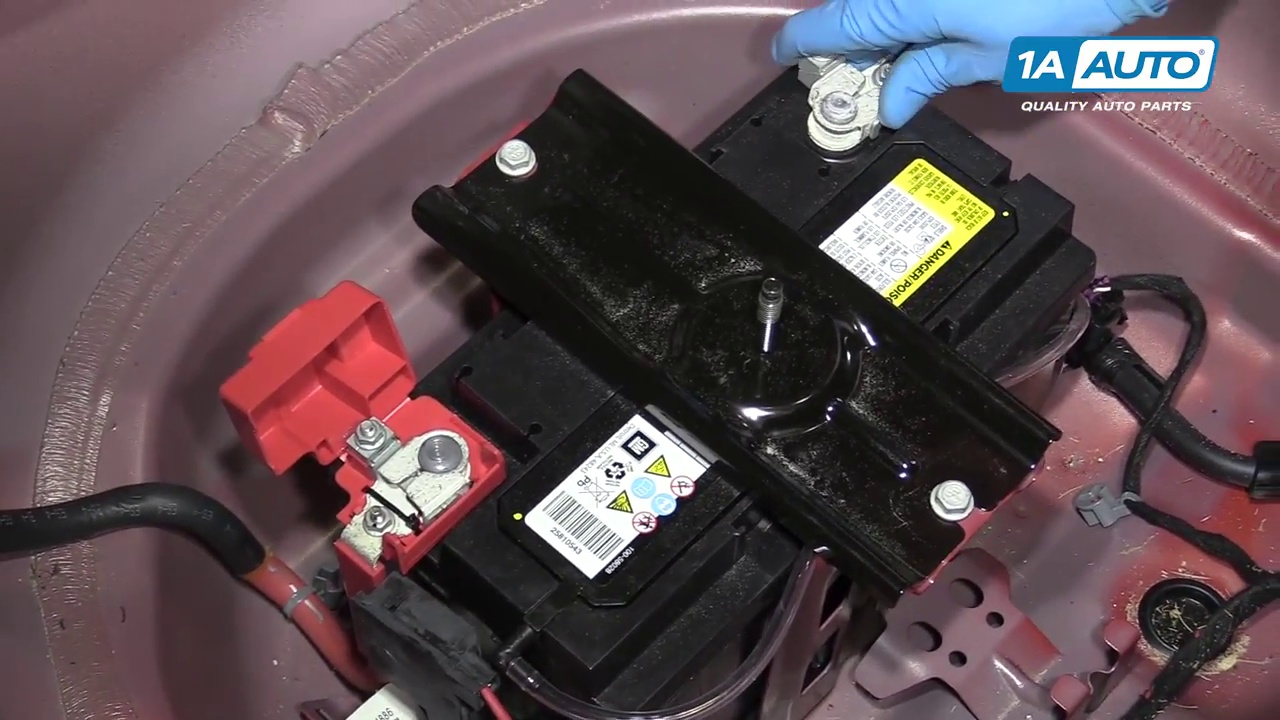battery: (342, 12, 1091, 687)
neg_touched: (743, 1, 965, 167)
pos_connected: (215, 301, 509, 581)
